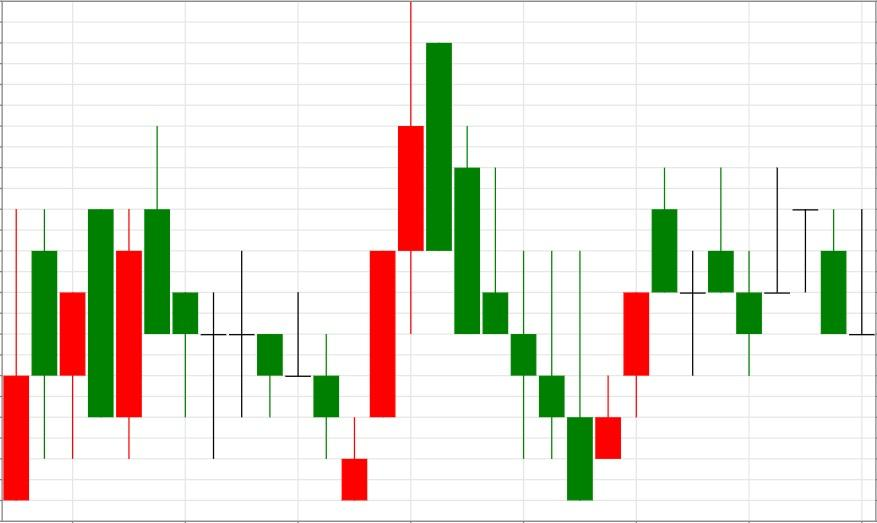inverse_hammer_rise: (425, 41, 593, 500)
three_white_soldiers_rise: (144, 2, 424, 500)
